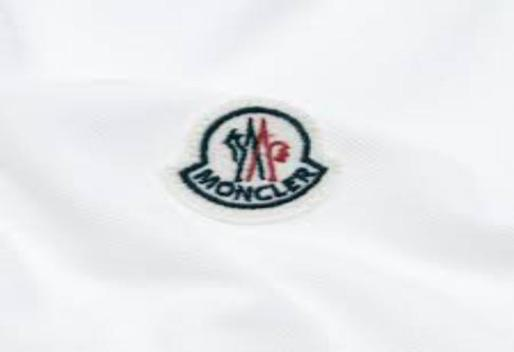MONCLER: (223, 115, 290, 186)
